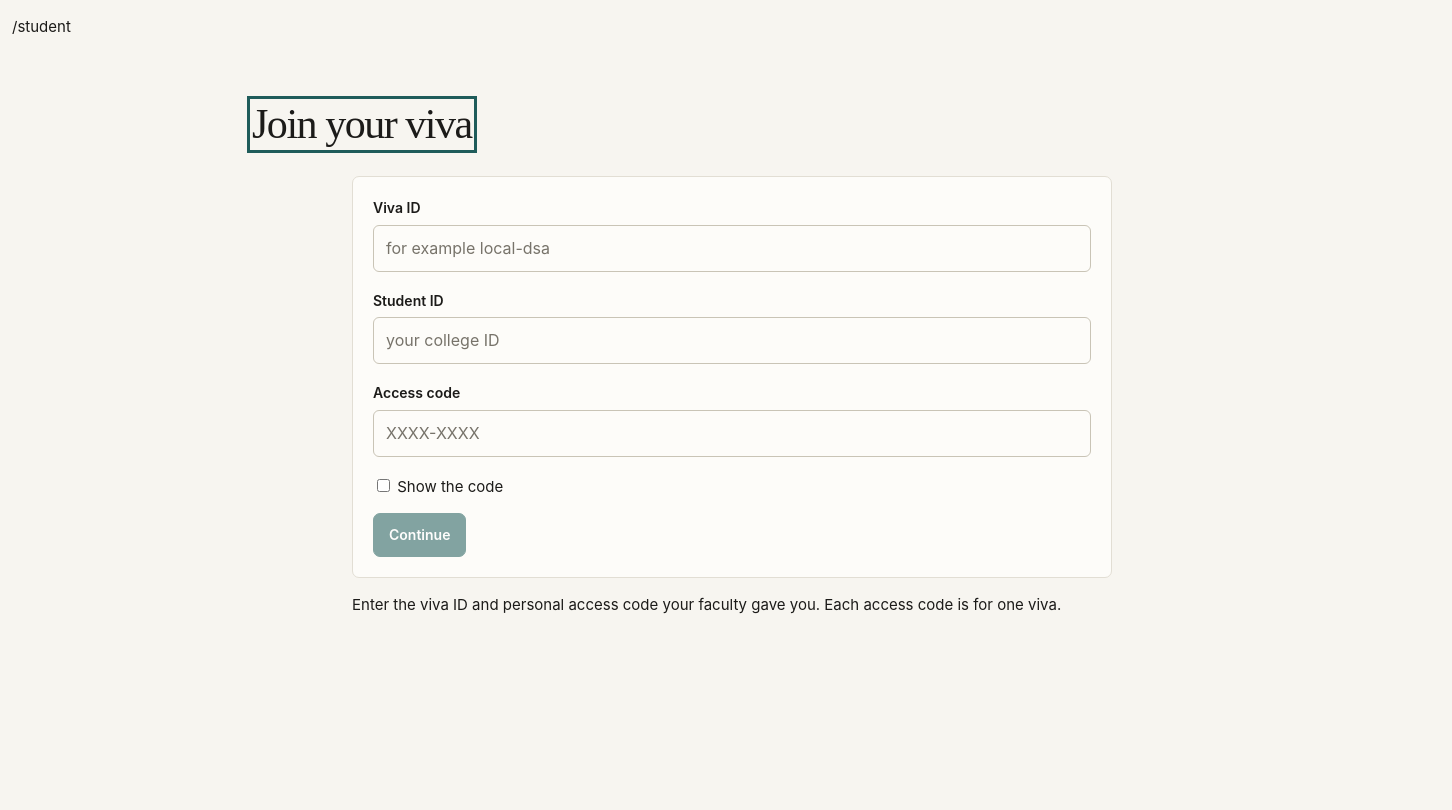
Test case: student screens › a wrong access code keeps the fields, shows a kind sentence and blocks the button for the server-given wait
Step 1. Type "v1" into the field labelled "Viva ID" → coordinates (732, 248), box [373,225,1091,272]
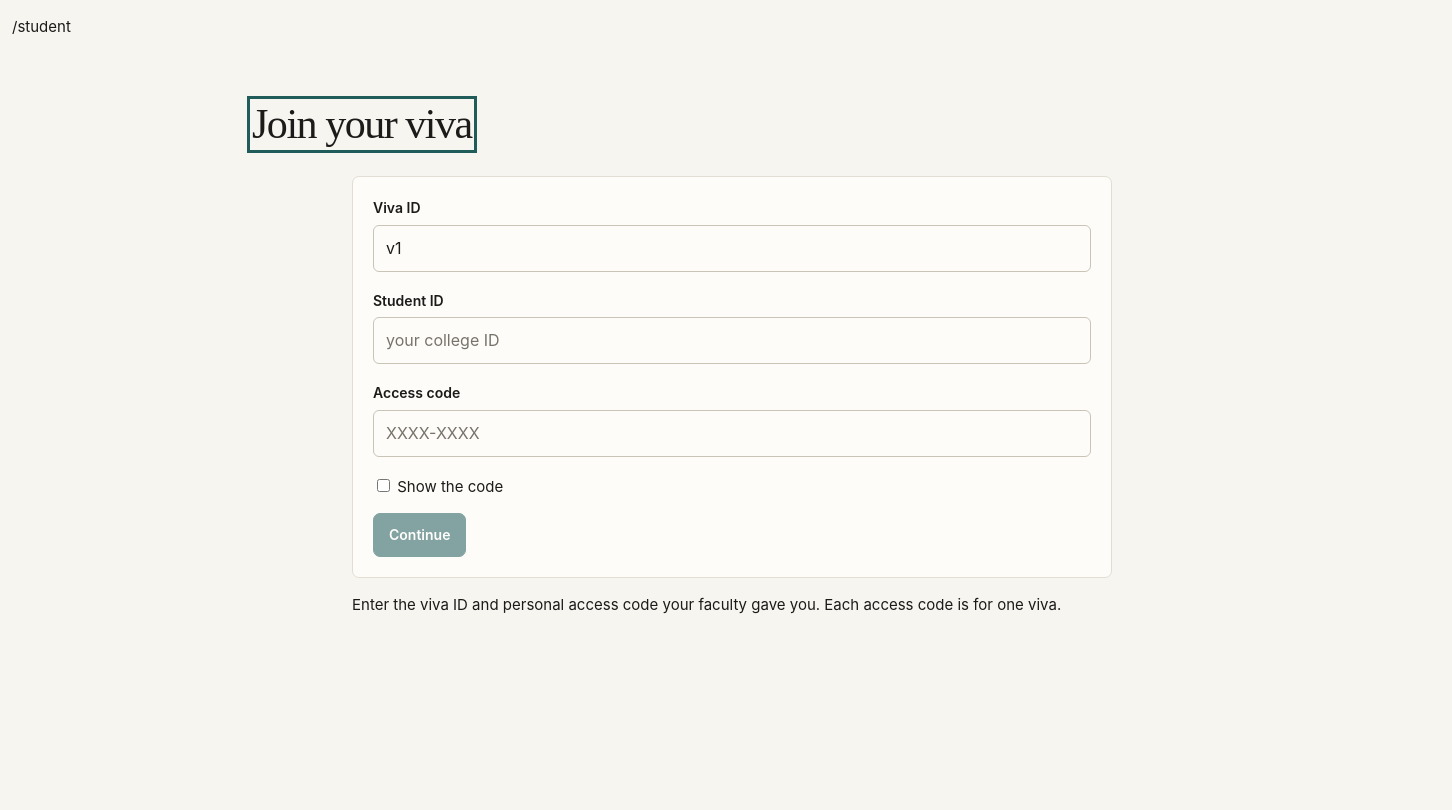
Step 2. Type "S1" into the field labelled "Student ID" → coordinates (732, 341), box [373,318,1091,364]
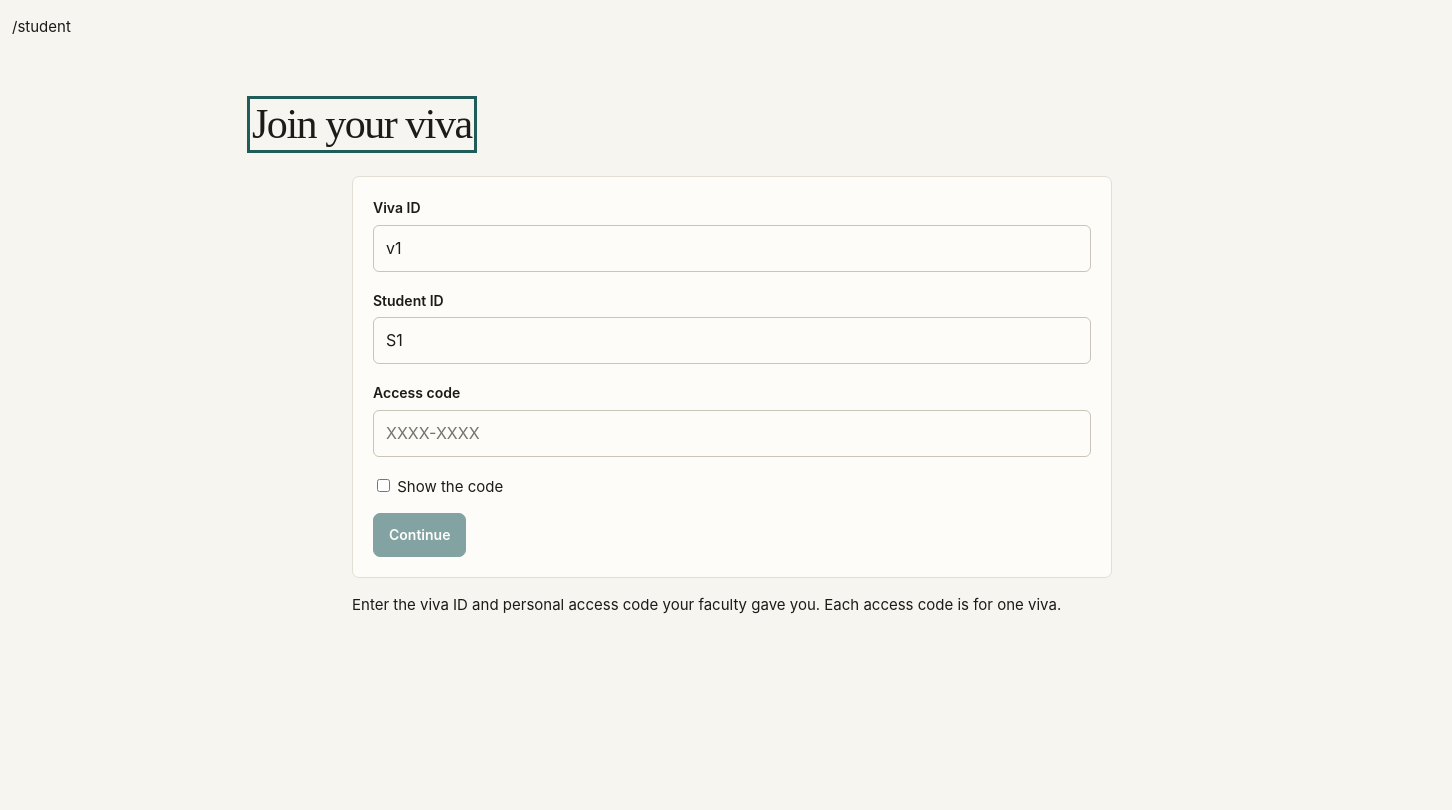
Step 3. Type "AAAA-1111" into the password field labelled "Access code" → coordinates (732, 433), box [373,410,1091,457]
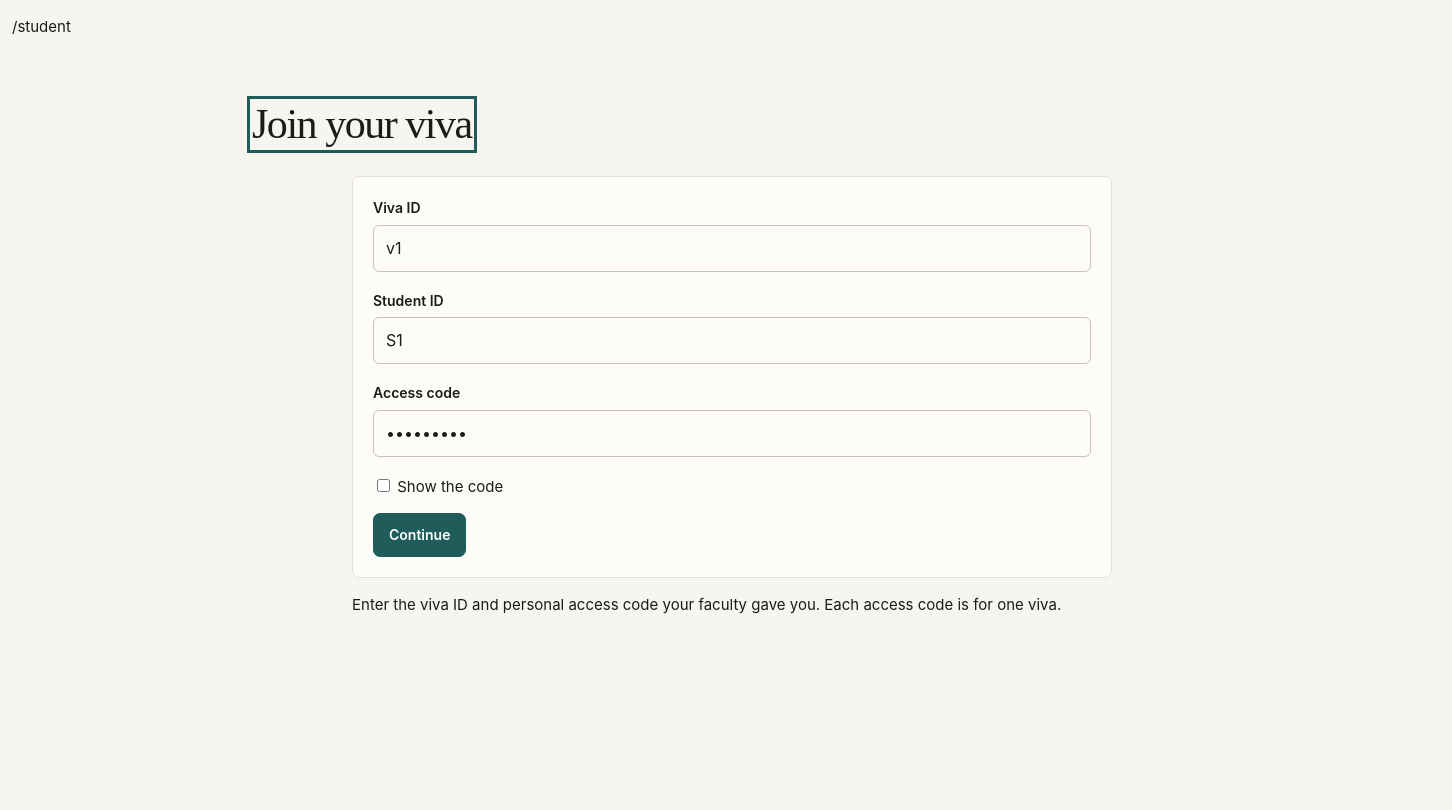
Step 4. Click the button "Continue" → coordinates (420, 535), box [373,513,466,557]
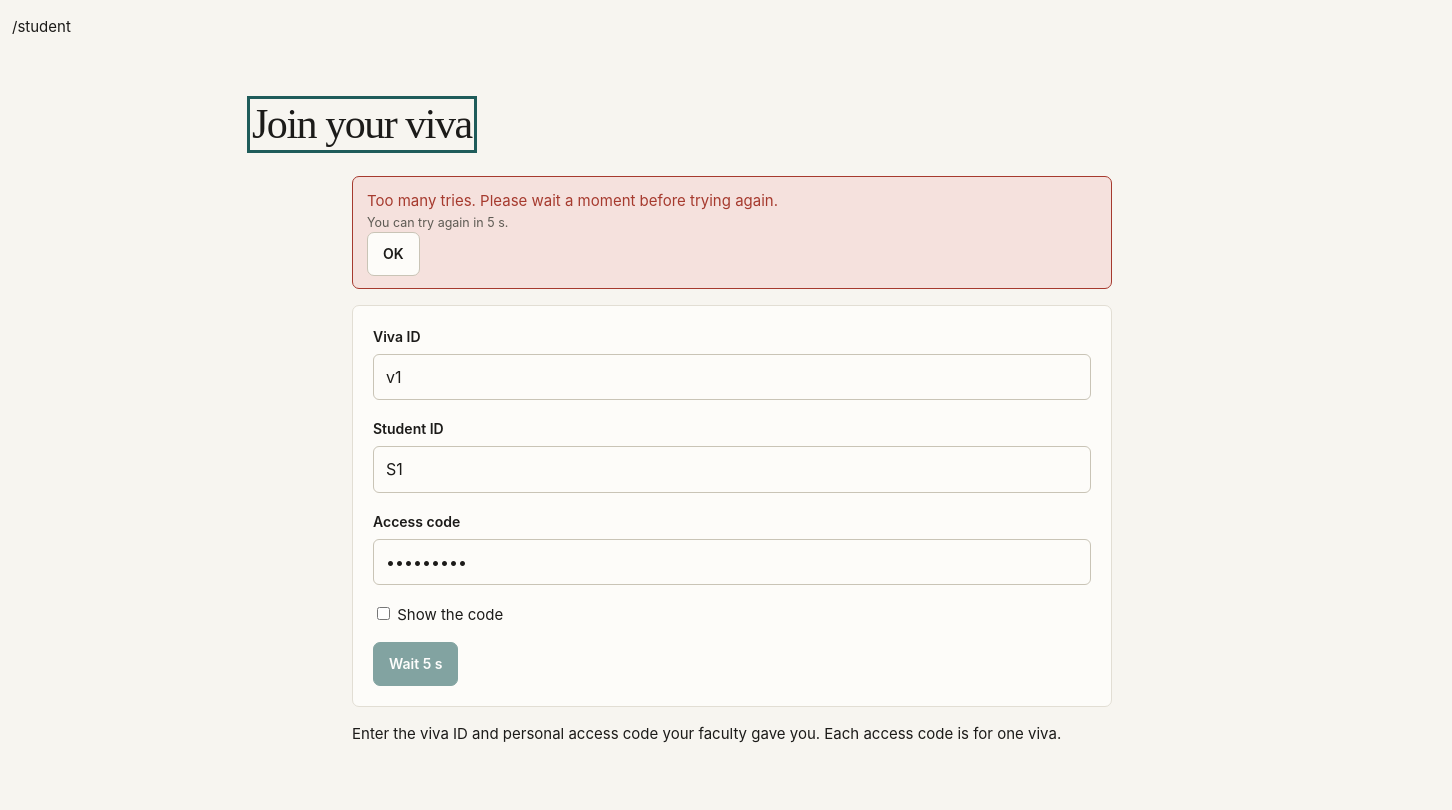
Expected: the message shows "Too many tries", [367,191,778,210]
Expected: the button "Wait 5 s" is disabled, [373,642,458,686]
